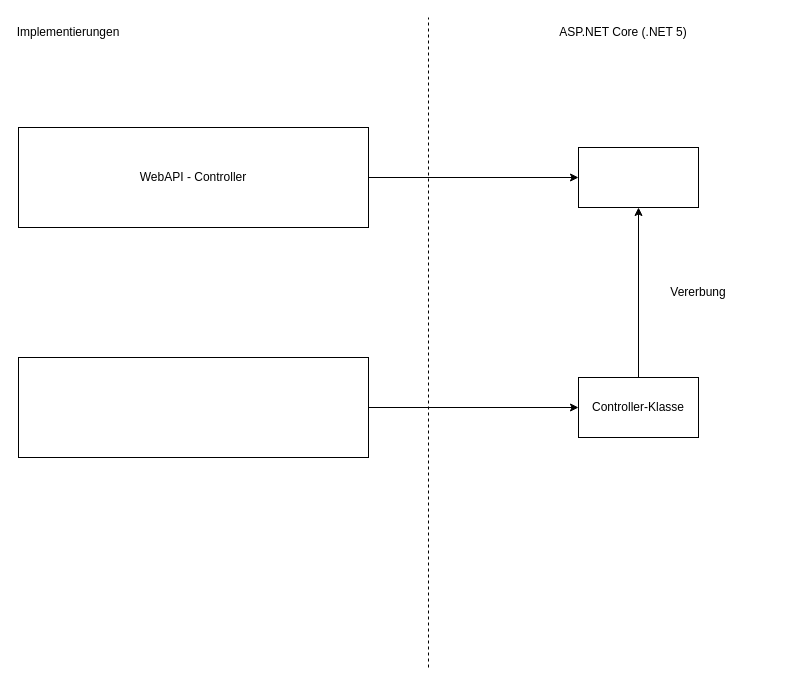
This 796x686 diagram has some shape labels left out. The box of each missing label's shape, as (x1, y1, x2, y2) in pixels:
ControllerBase-Klasse: (578, 146, 698, 208)
MVC - Controller: (18, 356, 368, 458)
